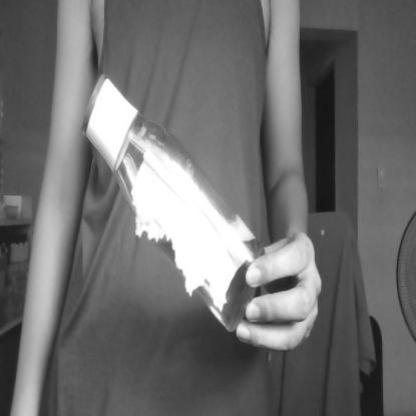Plastic Bottle: (76, 71, 262, 322)
